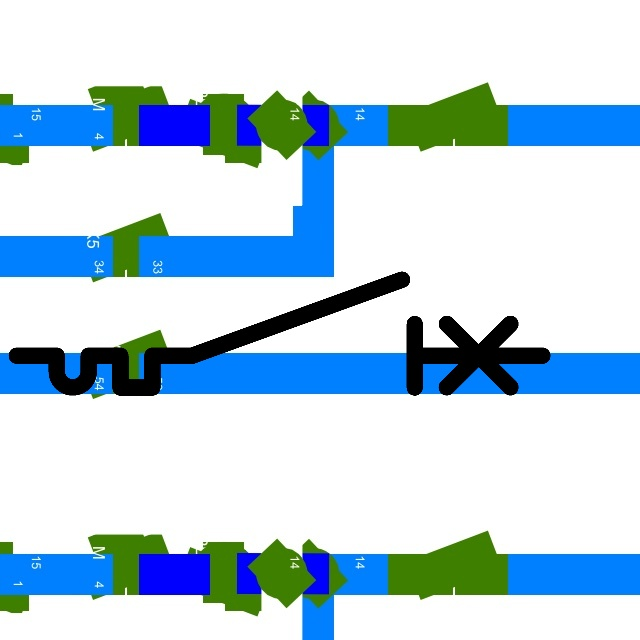interruptor_termomagnetico: (3, 266, 556, 401)
